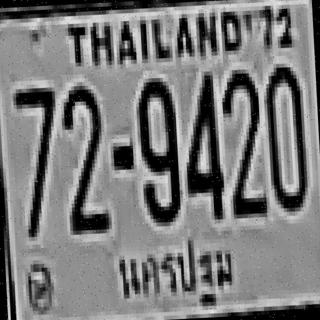N00: (264, 63, 308, 209), (135, 76, 179, 222)
N02: (60, 83, 106, 222), (221, 69, 264, 207)
N04: (179, 69, 223, 219)
N07: (13, 84, 59, 234), (13, 84, 57, 191)
N09: (135, 74, 179, 224)
P28: (113, 236, 238, 315)
